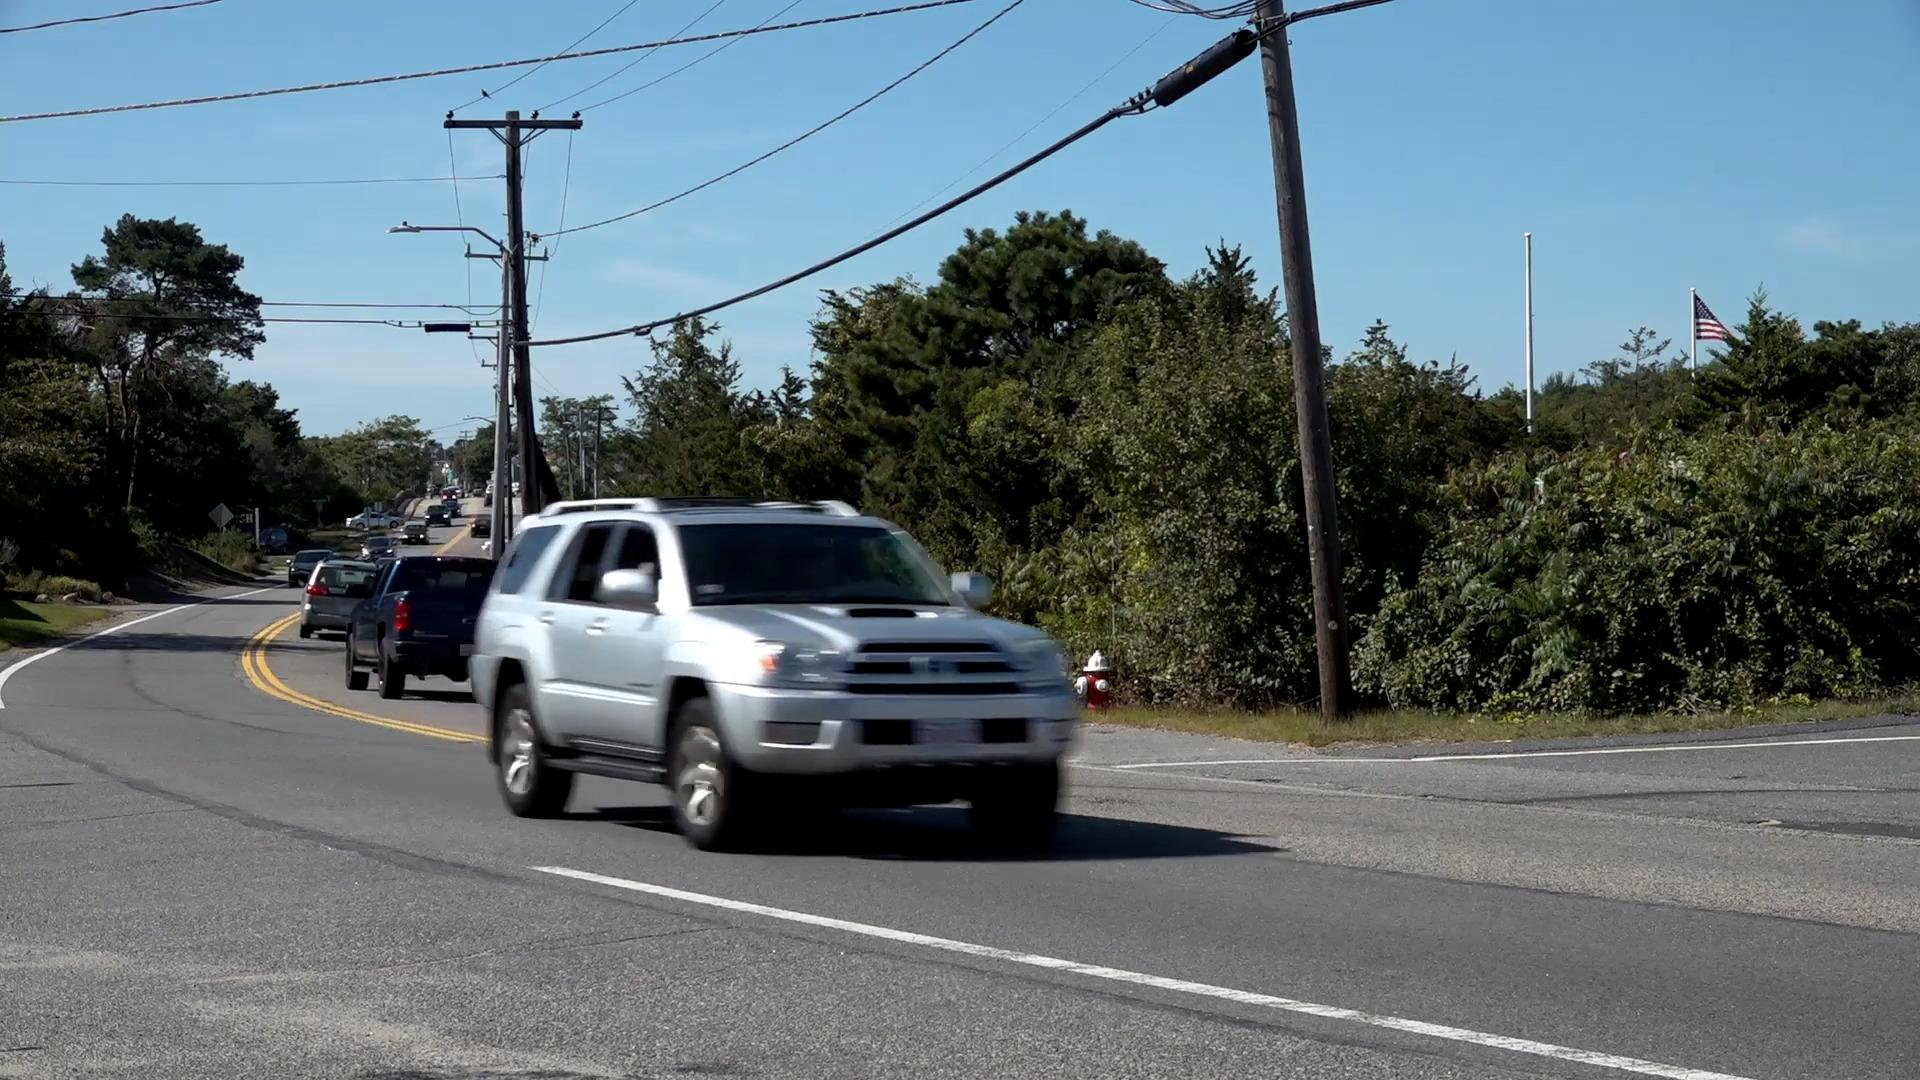pickup: (353, 557, 482, 697)
sedans: (485, 497, 1077, 852)
